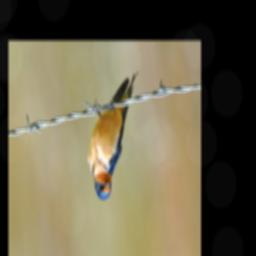Swallow: (84, 70, 142, 203)
